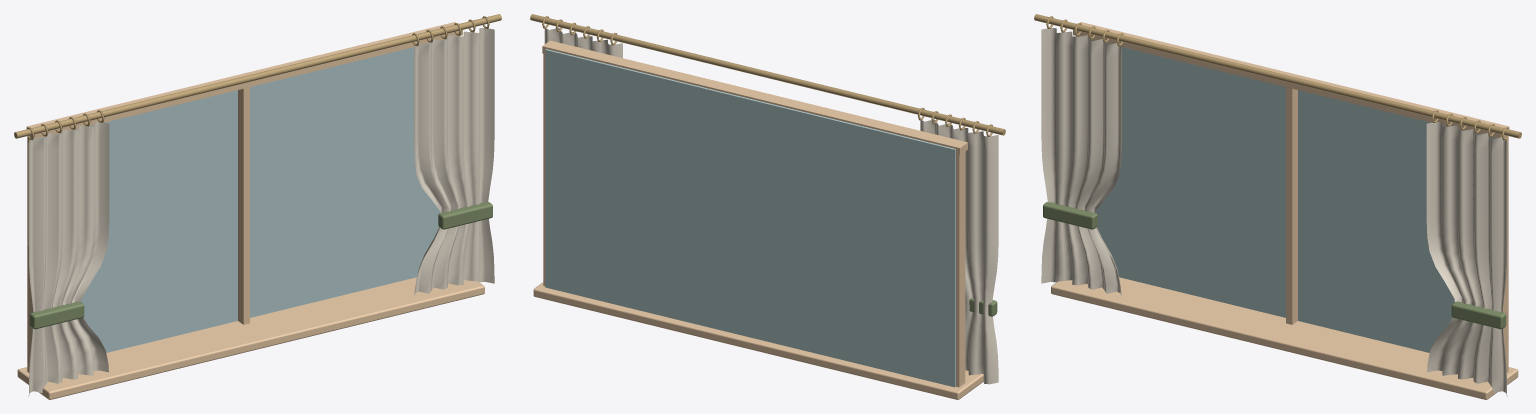
The model's file is bedroom_ref_window.glb.
3 renders of one model, left to right at view 1: azimuth 30°, elevation 25°; view 2: azimuth 150°, elevation 25°; view 3: azimuth 330°, elevation 25°, orthographic. The views are drawn at different scales.
Size of the model in its own units: 4.15 by 2.2 by 0.48.
